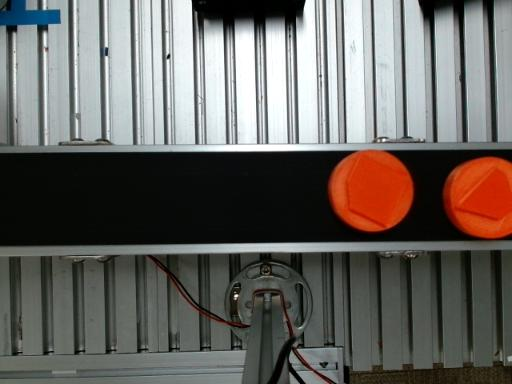Not_Square: (347, 152, 410, 228), (453, 166, 511, 220)
Orange_Waper: (327, 150, 414, 232), (442, 156, 511, 239)
